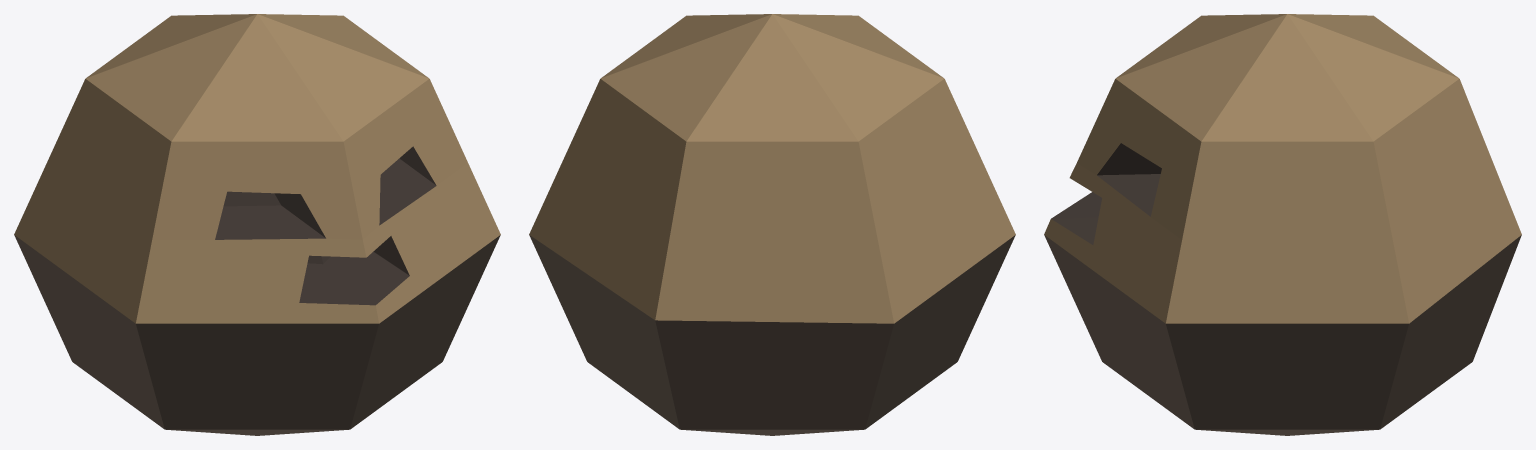
The model's file is coconut.fbx.
3 views of the same model, side by side, from view 1: azimuth 30°, elevation 25°; view 2: azimuth 150°, elevation 25°; view 3: azimuth 270°, elevation 25° (orthographic).
Parts seen in each view (by area): view 1: Sphere; view 2: Sphere; view 3: Sphere.
Boxes of the visible parts, <box> form: Sphere: <box>14,14,500,435</box>; Sphere: <box>529,14,1015,435</box>; Sphere: <box>1044,14,1521,435</box>.
Bounding box in the file's own units: 173 × 191 × 196.
1 material, 1 textured.
